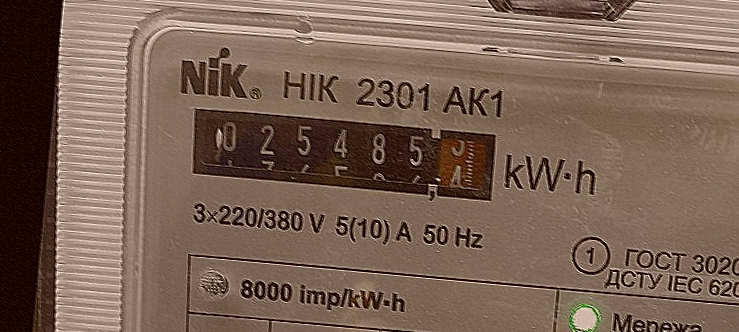0: (217, 118, 241, 154)
2: (256, 121, 279, 158)
4: (329, 125, 353, 161), (445, 162, 467, 192)
5: (403, 132, 428, 171), (292, 122, 315, 158)
8: (367, 129, 391, 168)
screen: (179, 99, 506, 214)
